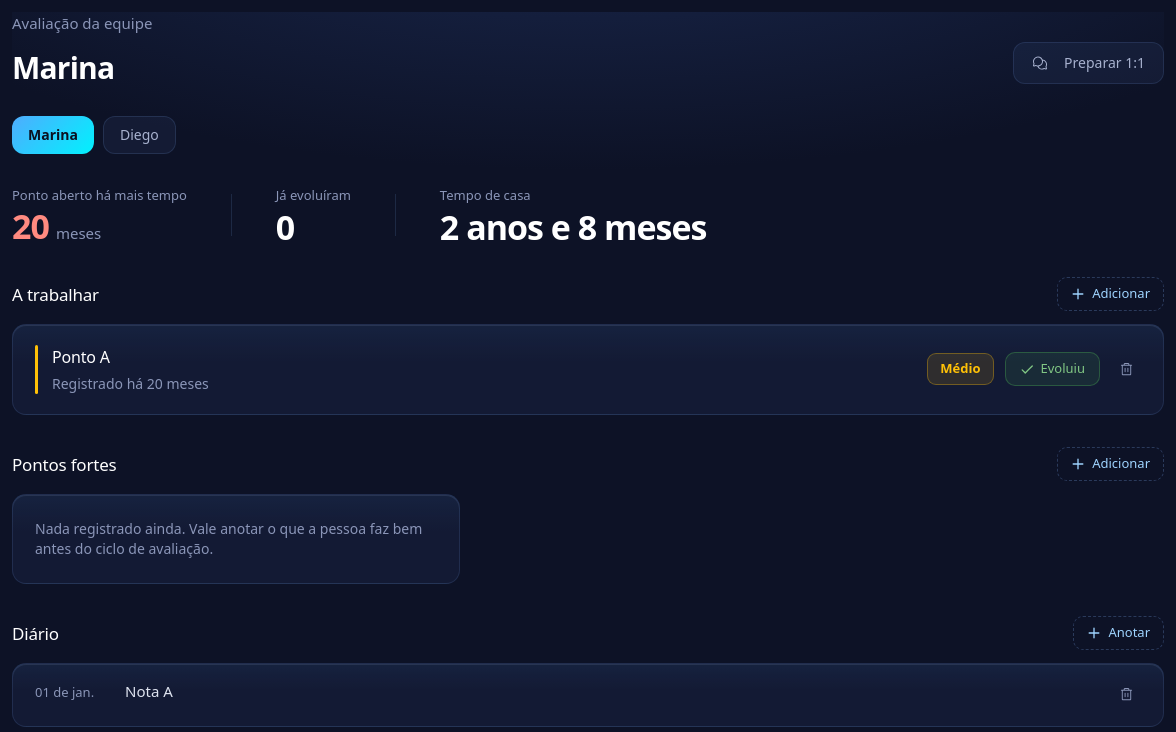
Scenario: Equipe › clicar em "Preparar 1:1" troca para a tela de Pauta
Expected: the heading "Marina" is shown, left=12, top=50, right=114, bottom=84
Click the button "Preparar 1:1" at point(1089, 62), box left=1013, top=42, right=1164, bottom=84
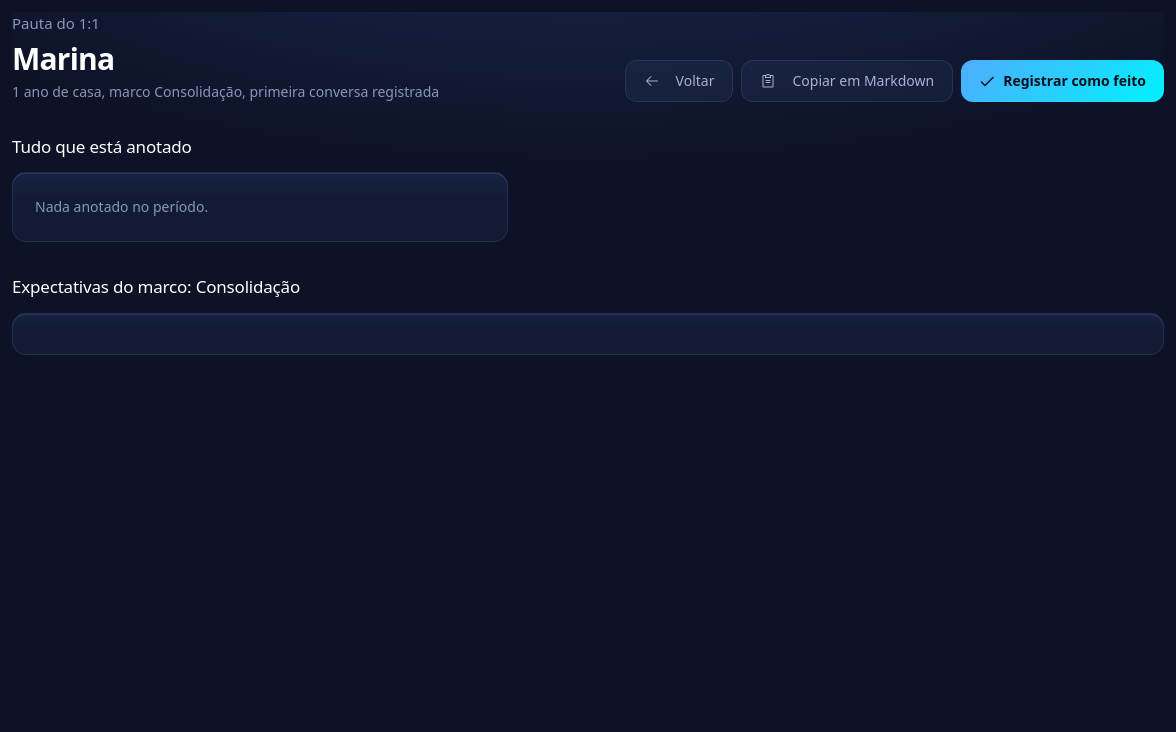
Expected: the heading "Marina" is shown, left=12, top=38, right=114, bottom=78
Expected: the text "Pauta do 1:1" is shown, left=12, top=13, right=100, bottom=33
